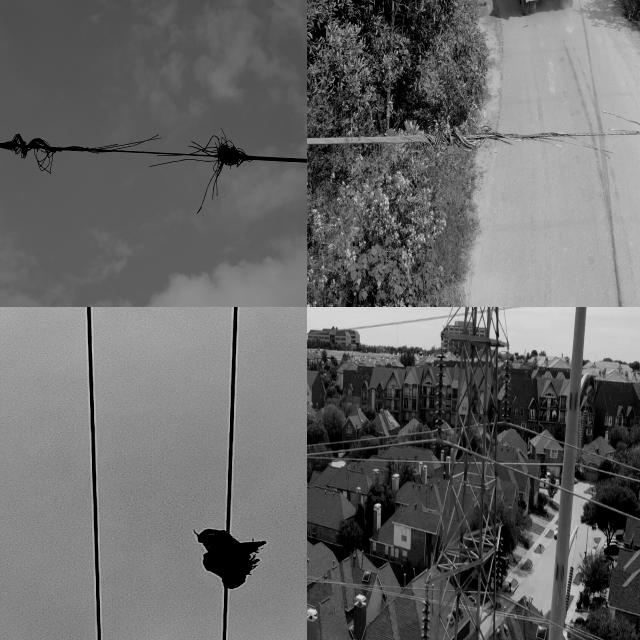杆塔: (418, 307, 507, 640)
植被遮挡: (191, 518, 273, 597)
正常绝缘子: (430, 345, 453, 468), (494, 530, 509, 614), (500, 336, 512, 434), (417, 581, 432, 640)
电缆破损: (406, 109, 640, 175), (0, 125, 246, 186)
